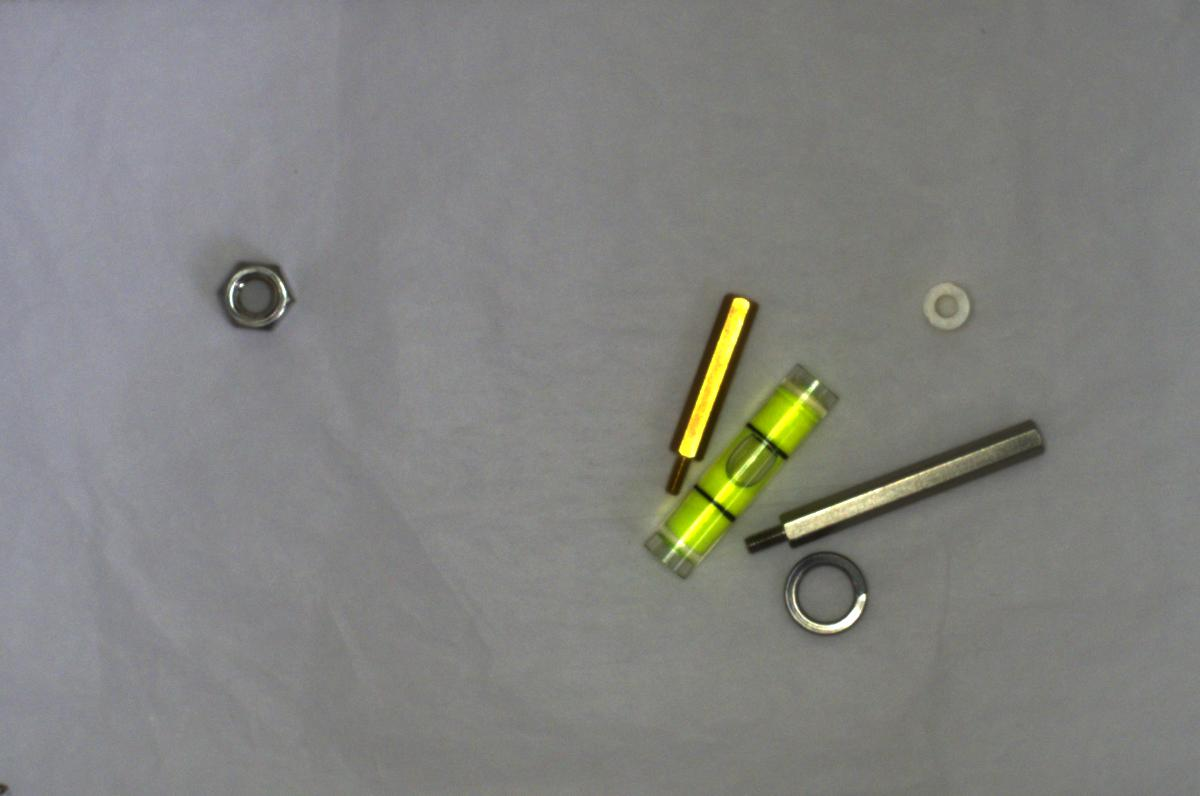Hexagon nut: (208, 253, 299, 328)
Hexagon pillar: (658, 286, 758, 492)
Hexagonal steel column: (742, 413, 1047, 558)
Horizontal bubble: (641, 370, 831, 582)
Plastic cushion pillar: (915, 276, 980, 335)
Spring washer: (779, 546, 878, 639)
